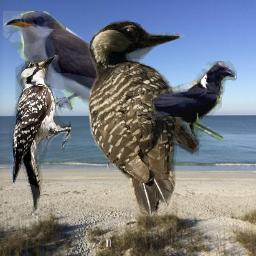Crow: (151, 61, 237, 137)
Cuckoo: (3, 11, 223, 144)
Woodpecker: (88, 19, 204, 221), (7, 52, 71, 214)
